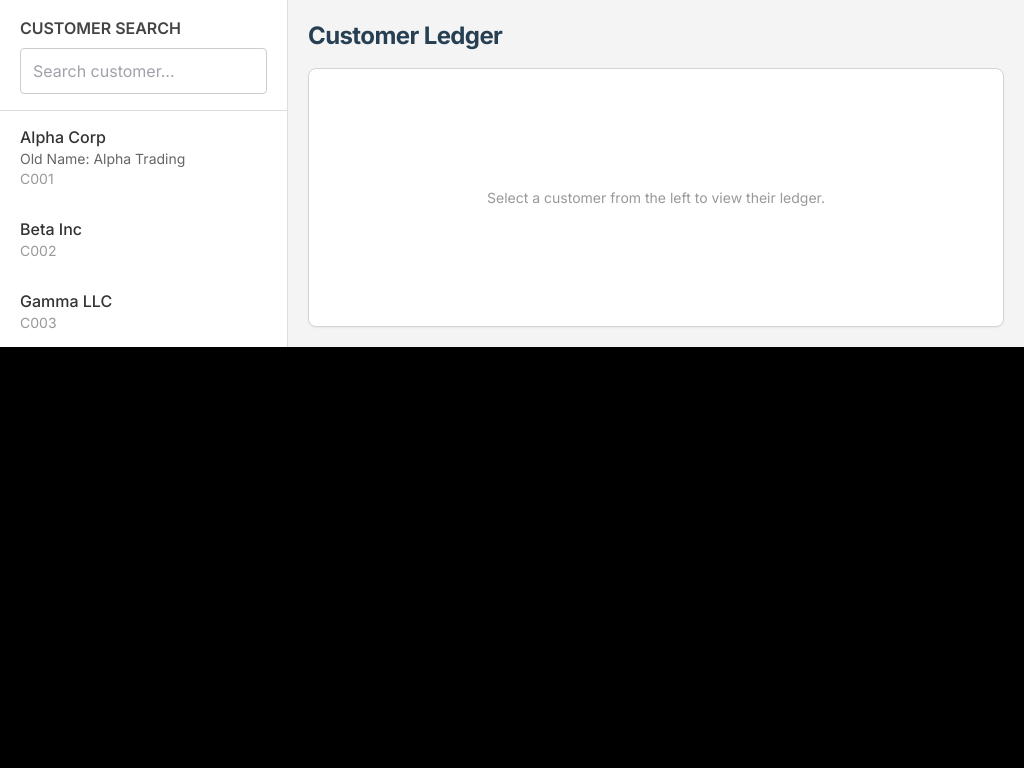
Test: CustomerLedgerView › shows only the time in the Timestamp column beside the separate date column
The width and height of the screenshot is (1024, 768).
Step 1. Click the text "Alpha Corp" → (63, 137), box [20,127,106,147]
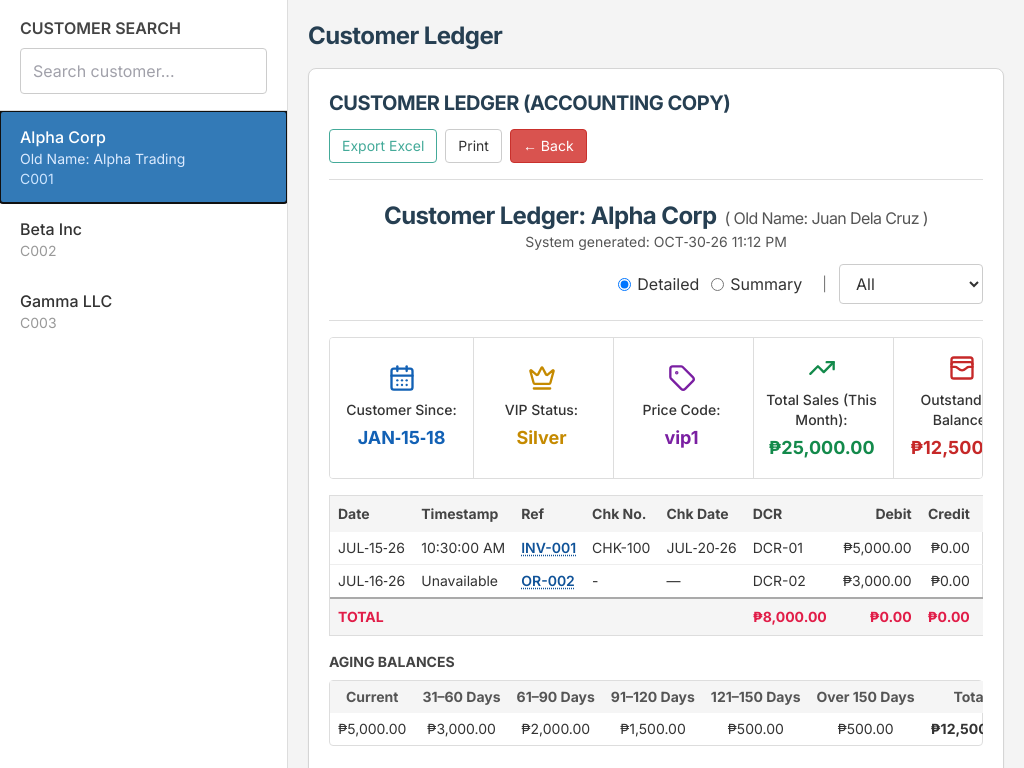
Expected: the cell "10:30:00 AM" does not show "JUL", [413,532,513,564]
Expected: the cell "JUL‑15‑26" is shown, [330,532,413,564]
Expected: the cell "10:30:00 AM" is shown, [413,532,513,564]
